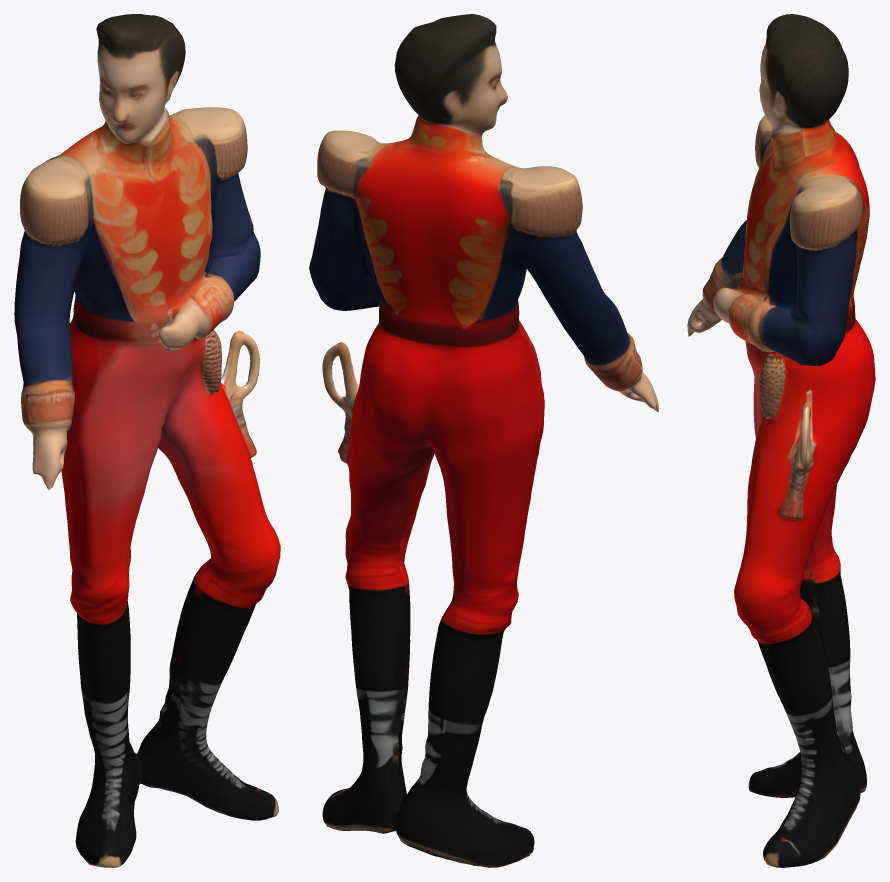
File: sucre.gltf
3 renders of one model, left to right at view 1: azimuth 30°, elevation 25°; view 2: azimuth 150°, elevation 25°; view 3: azimuth 270°, elevation 25°, orthographic. The views are drawn at different scales.
Parts seen in each view (by area): view 1: model; view 2: model; view 3: model.
Part boxes in pixels (x1,y1,x2,y2): model: [14, 14, 280, 867]; model: [309, 14, 658, 867]; model: [687, 14, 875, 867].
Bounding box in the file's own units: 3.28 × 9.11 × 1.97.
1 material, 1 textured.
